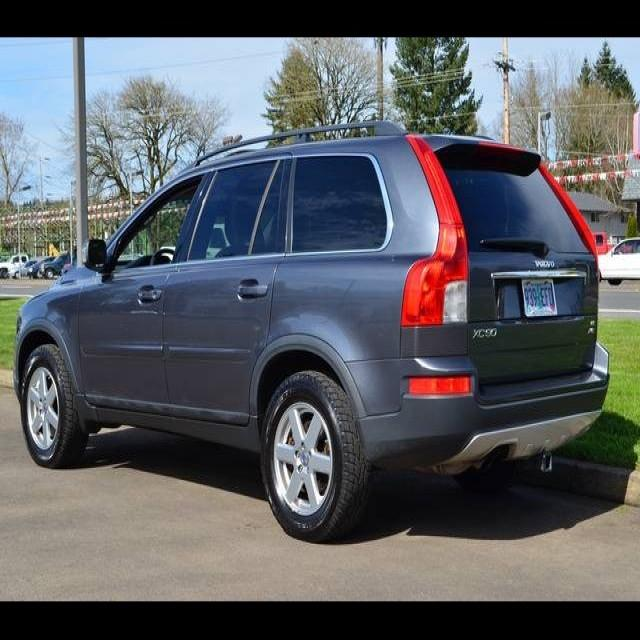car: (8, 116, 612, 540)
